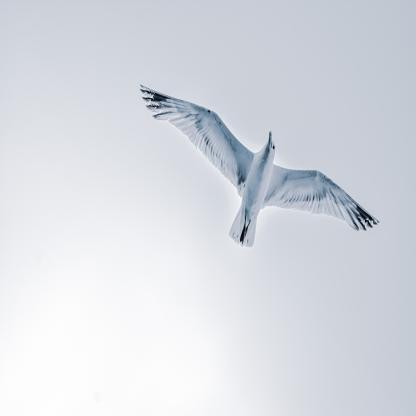bird: (139, 82, 380, 248)
